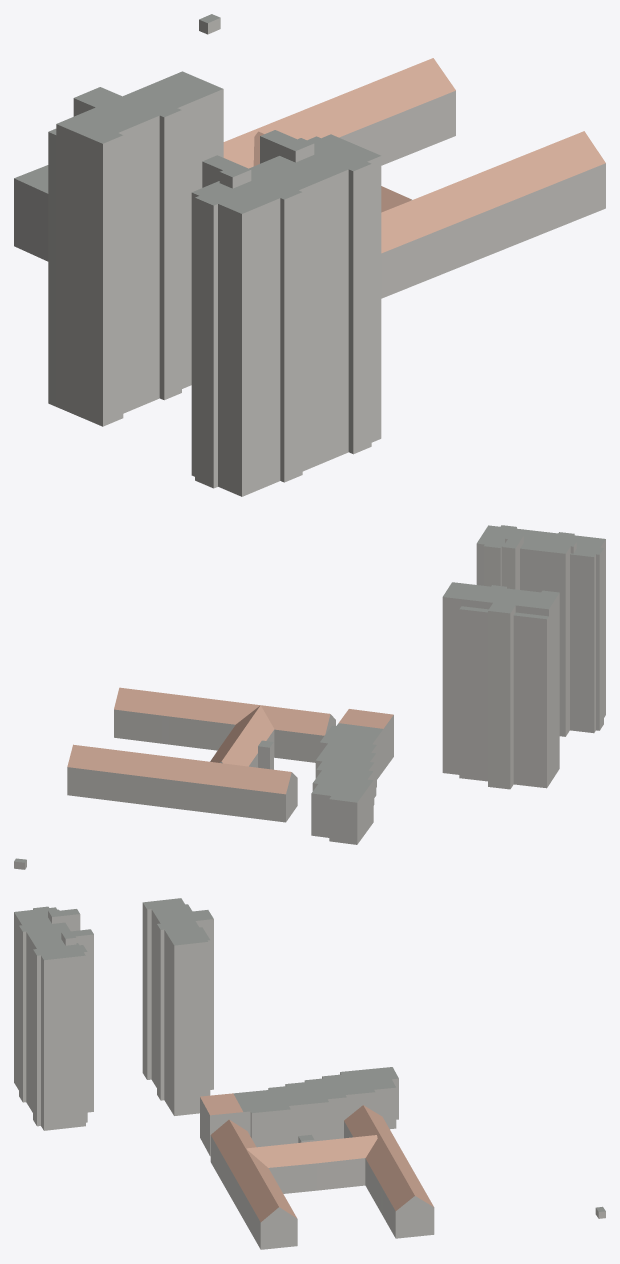
Rendered from gridID_68.dae.
3 views of the same model, one above another, from view 1: azimuth 30°, elevation 25°; view 2: azimuth 150°, elevation 25°; view 3: azimuth 270°, elevation 25° (orthographic). The views are drawn at different scales.
Parts seen in each view (by area): view 1: model_gridID_68_w375393989, model_gridID_68_w375393987, model_gridID_68_w116940044, model_gridID_68_w116940038; view 2: model_gridID_68_w116940044, model_gridID_68_w375393987, model_gridID_68_w375393989, model_gridID_68_w116940038, model_gridID_68_w376043962; view 3: model_gridID_68_w116940044, model_gridID_68_w375393989, model_gridID_68_w375393987, model_gridID_68_w116940038, model_gridID_68_w376043962.
Part boxes in pixels (x1,y1,x2,y2): model_gridID_68_w375393989: (191,130,381,496); model_gridID_68_w375393987: (48,71,223,426); model_gridID_68_w116940044: (223,58,605,298); model_gridID_68_w116940038: (14,165,48,261); model_gridID_68_w116940044: (67,687,335,822); model_gridID_68_w375393987: (442,582,559,789); model_gridID_68_w375393989: (476,525,605,736); model_gridID_68_w116940038: (311,723,383,844); model_gridID_68_w376043962: (339,709,393,770); model_gridID_68_w116940044: (210,1105,434,1249); model_gridID_68_w375393989: (14,906,93,1130); model_gridID_68_w375393987: (142,898,213,1115); model_gridID_68_w116940038: (233,1067,398,1147); model_gridID_68_w376043962: (200,1093,243,1156).
Size of the model in its own units: 143 by 197 by 65.
